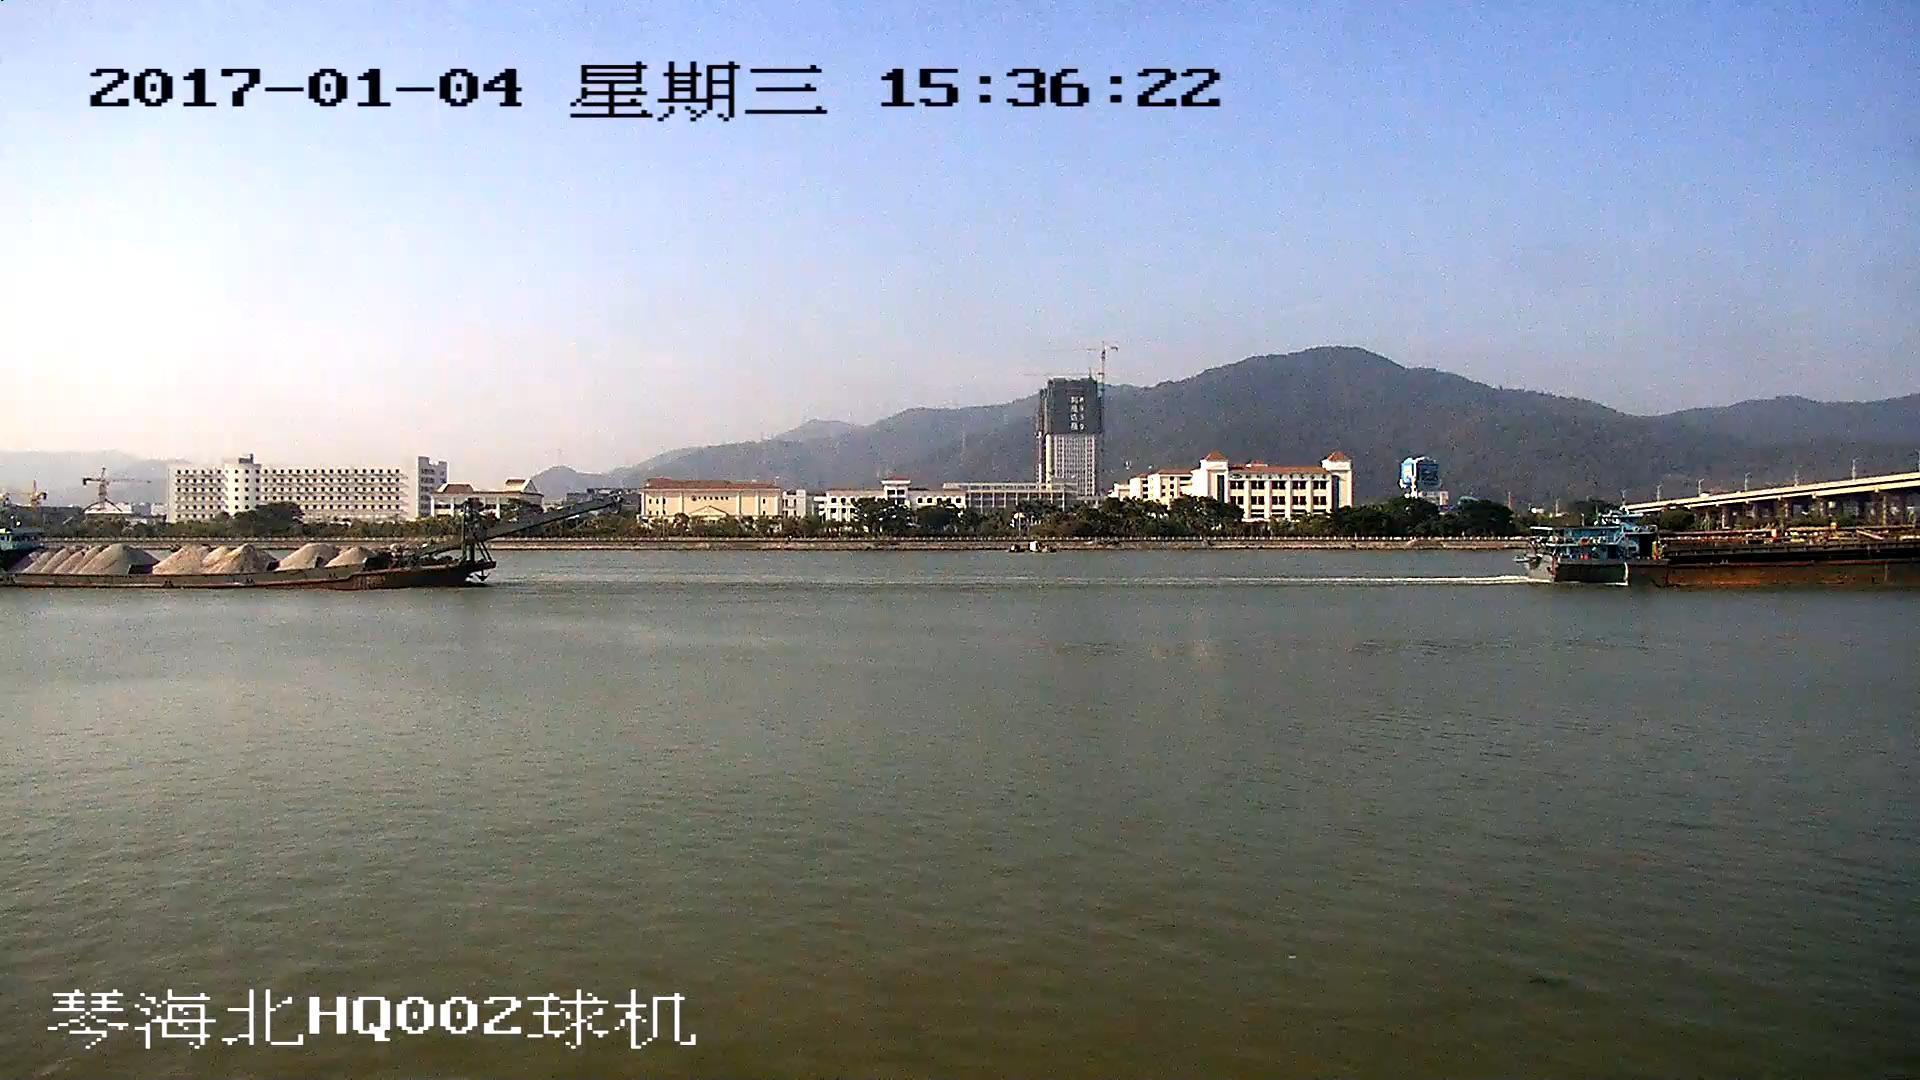Ship: (3, 500, 611, 592), (1522, 524, 1920, 588)
